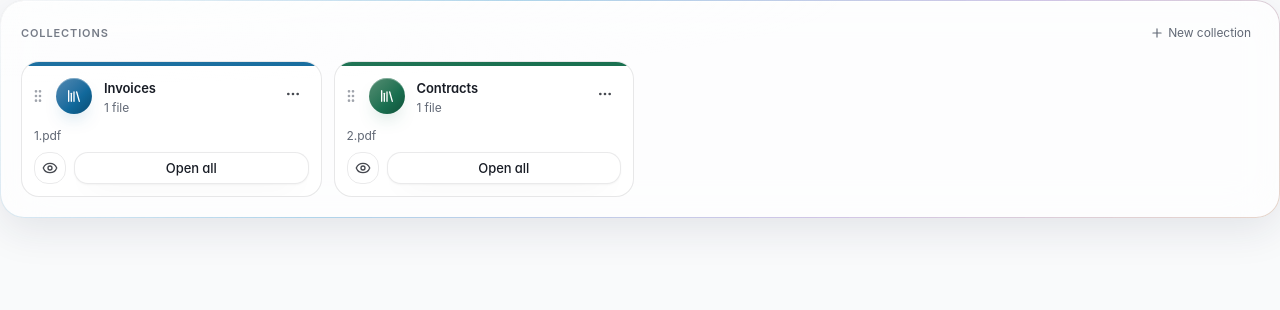
Test case: CollectionsSection › moves a collection later from its menu and turns the move off at the end of the list
The image size is (1280, 310).
What coordinates should you click on to do the following:
click the button named "Actions for Invoices"
I would click on:
 (292, 94)
Its box is x1=276 y1=78 x2=308 y2=110.
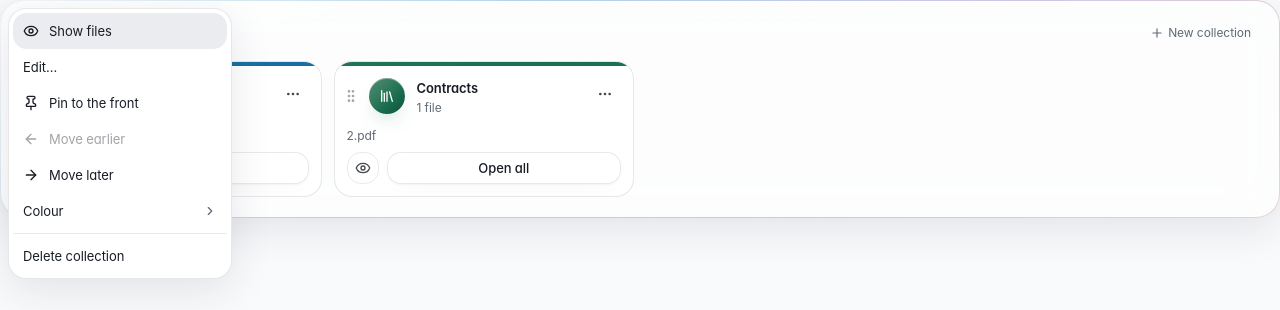
What coordinates should you click on to do the following:
click the menu item "Move later"
I would click on:
 (120, 175)
Its box is x1=13 y1=157 x2=227 y2=193.
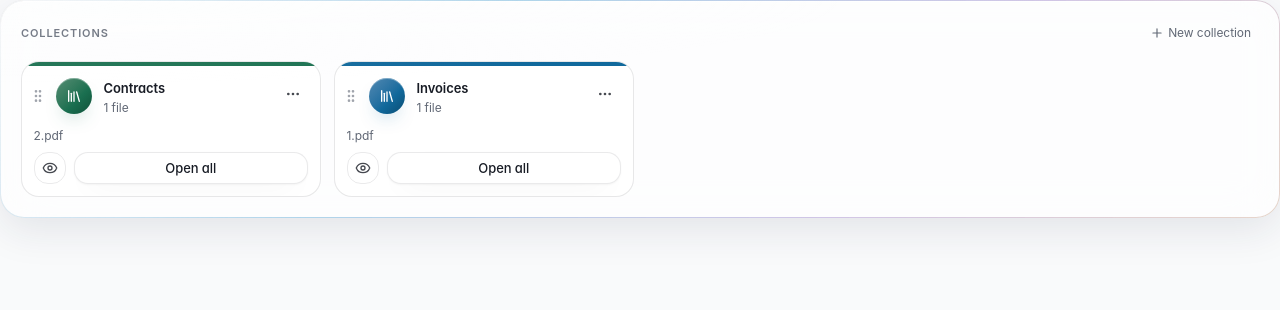
What coordinates should you click on to do the following:
click the button named "Actions for Invoices"
I would click on:
 (605, 94)
Its box is x1=589 y1=78 x2=621 y2=110.
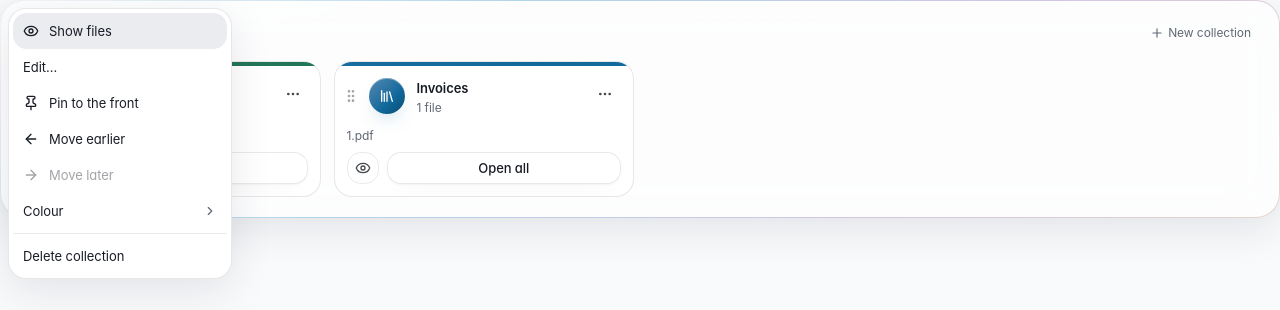
Expected: the menu item "Move later" is disabled, x1=13 y1=157 x2=227 y2=193
